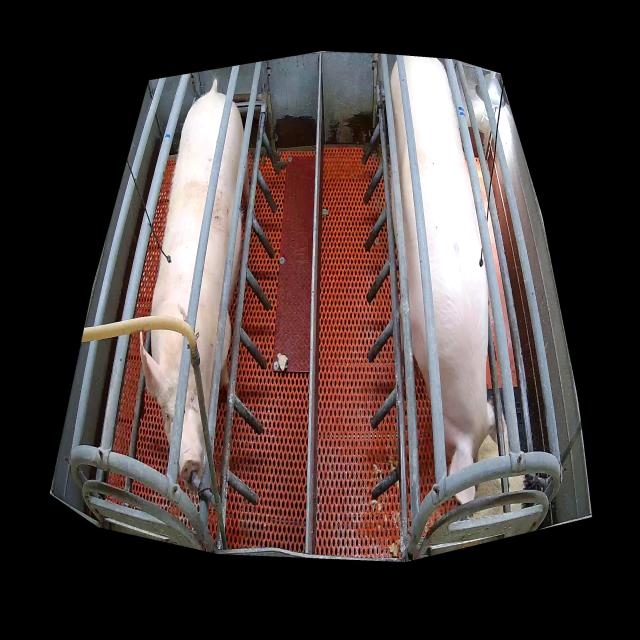pig: (391, 56, 498, 475), (140, 91, 250, 489)
